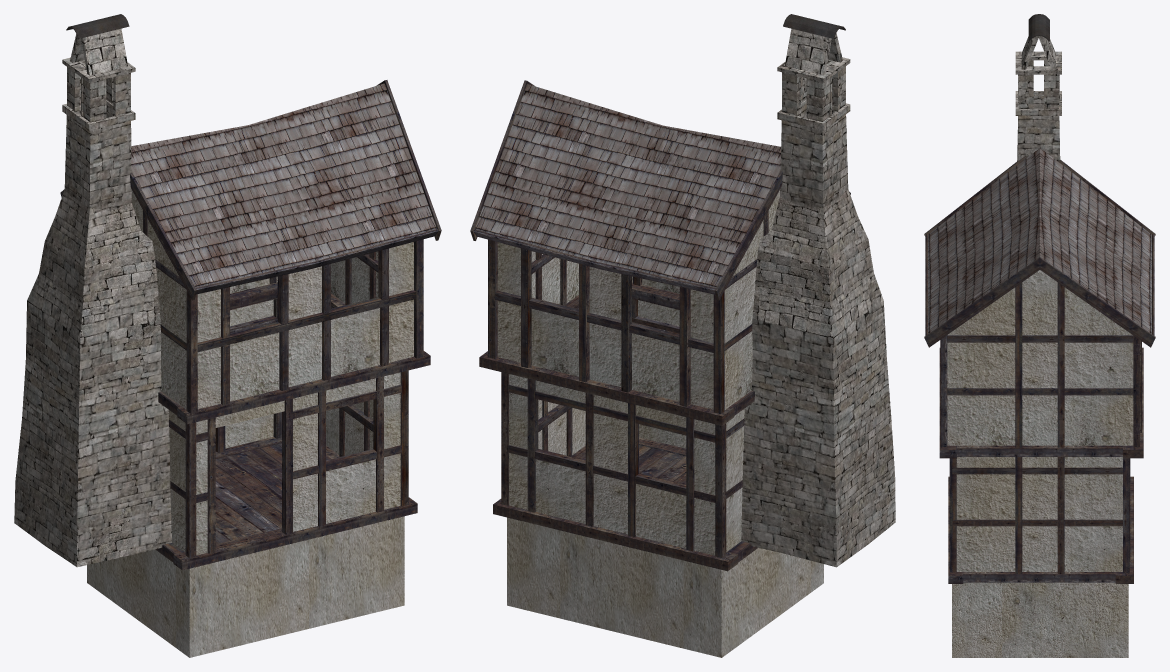
Rendered from housesmall.fbx.
The picture shows the model from 3 angles, left to right: view 1: azimuth 30°, elevation 25°; view 2: azimuth 150°, elevation 25°; view 3: azimuth 270°, elevation 25°; orthographic projection. The views are drawn at different scales.
Visible parts, largest first — view 1: ChimneyHearth, HouseSmallRoof, HouseSmallWallsBasement, HouseSmallWallsUpper, HouseSmallWallsLower, HouseSmallBeamsLower, HouseSmallBeamsUpper, HouseSmallFloor, HouseSmallSeparatorUpper, HouseSmallSeparatorLower, HouseSmallRoofFrame, HouseSmallWallsLowerChimney (+1 smaller); view 2: ChimneyHearth, HouseSmallRoof, HouseSmallWallsBasement, HouseSmallWallsUpper, HouseSmallWallsLower, HouseSmallBeamsLower, HouseSmallBeamsUpper, HouseSmallSeparatorUpper, HouseSmallSeparatorLower, HouseSmallRoofFrame, HouseSmallWallsLowerChimney, HouseSmallFloor (+1 smaller); view 3: HouseSmallRoof, HouseSmallWallsUpper, HouseSmallWallsLower, HouseSmallWallsBasement, HouseSmallBeamsUpper, HouseSmallBeamsLower, ChimneyHearth, HouseSmallRoofFrame, HouseSmallSeparatorUpper, HouseSmallSeparatorLower, ChimneyHearthTop.
Boxes of the visible parts, x1,y1,x2,y2 form: ChimneyHearth: (14, 28, 171, 567); HouseSmallRoof: (131, 83, 436, 287); HouseSmallWallsBasement: (87, 516, 404, 657); HouseSmallWallsUpper: (131, 190, 413, 409); HouseSmallWallsLower: (168, 299, 400, 555); HouseSmallBeamsLower: (169, 298, 408, 558); HouseSmallBeamsUpper: (143, 210, 423, 413); HouseSmallFloor: (215, 443, 330, 543); HouseSmallSeparatorUpper: (158, 282, 430, 424); HouseSmallSeparatorLower: (155, 437, 417, 570); HouseSmallRoofFrame: (60, 80, 441, 300); HouseSmallWallsLowerChimney: (169, 422, 207, 550); ChimneyHearth: (741, 28, 895, 567); HouseSmallRoof: (475, 84, 780, 287); HouseSmallWallsBasement: (507, 517, 823, 657); HouseSmallWallsUpper: (497, 190, 779, 409); HouseSmallWallsLower: (509, 300, 741, 555); HouseSmallBeamsLower: (501, 298, 744, 557); HouseSmallBeamsUpper: (488, 211, 768, 413); HouseSmallSeparatorUpper: (479, 282, 754, 425); HouseSmallSeparatorLower: (493, 437, 757, 571); HouseSmallRoofFrame: (470, 80, 850, 300); HouseSmallWallsLowerChimney: (694, 408, 744, 551); HouseSmallFloor: (581, 445, 686, 484); HouseSmallRoof: (928, 148, 1151, 333); HouseSmallWallsUpper: (947, 270, 1133, 445); HouseSmallWallsLower: (956, 457, 1122, 571); HouseSmallWallsBasement: (952, 582, 1128, 657); HouseSmallBeamsUpper: (940, 282, 1141, 447); HouseSmallBeamsLower: (949, 457, 1130, 573); ChimneyHearth: (1015, 36, 1061, 161); HouseSmallRoofFrame: (924, 155, 1155, 347); HouseSmallSeparatorUpper: (939, 347, 1143, 458); HouseSmallSeparatorLower: (948, 476, 1133, 583); ChimneyHearthTop: (1028, 14, 1049, 41).
Bounding box in the file's own units: 658 × 1117 × 446.
Materials: 6 (6 with a texture image).
